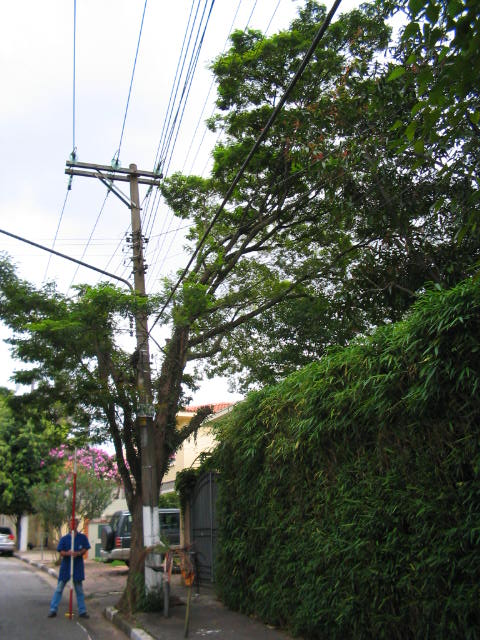crown: (6, 176, 342, 429)
stem: (116, 506, 168, 611)
stick: (64, 446, 80, 619)
tree: (5, 175, 343, 613)
